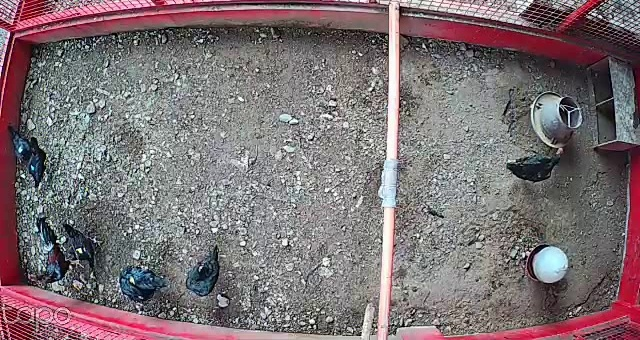Chicken: (502, 147, 568, 187), (181, 244, 224, 298), (62, 219, 105, 273), (116, 263, 169, 305), (27, 135, 55, 190), (4, 123, 33, 166)
Rooster: (32, 211, 84, 292)
Saddle_Color_Blue: (29, 165, 35, 170)
Saddle_Color_Yellow: (75, 247, 86, 254)
